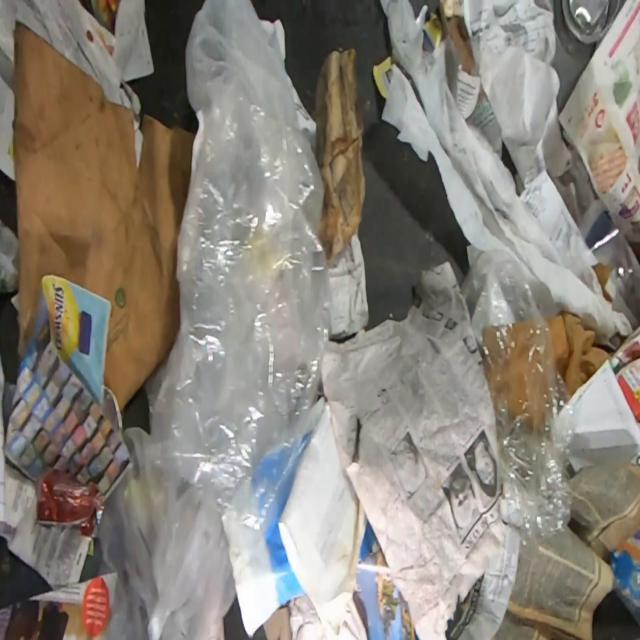cardboard: (15, 20, 196, 412), (545, 310, 613, 396)
rigid_plastic: (560, 0, 620, 43)
soft_plastic: (36, 0, 333, 639), (462, 246, 574, 540), (588, 224, 639, 319)
